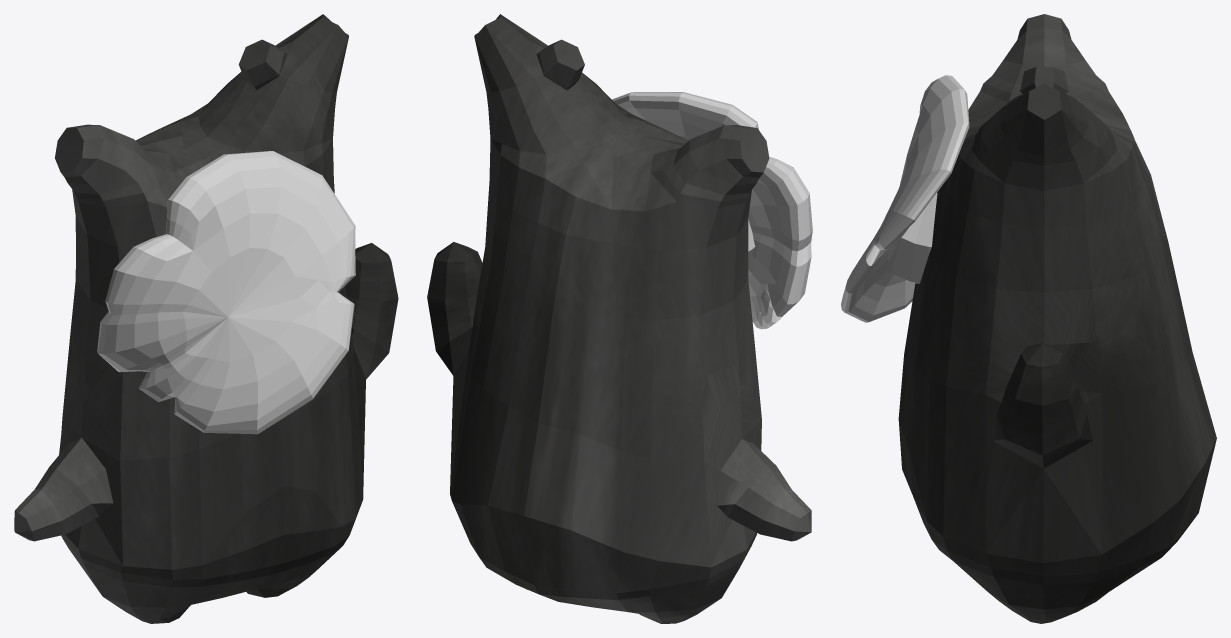
Rendered from frame_0038.obj.
The picture shows the model from 3 angles, left to right: view 1: azimuth 30°, elevation 25°; view 2: azimuth 150°, elevation 25°; view 3: azimuth 270°, elevation 25°; orthographic projection.
Parts seen in each view (by area): view 1: korok, leaf; view 2: korok, leaf; view 3: korok, leaf, nose.
Part boxes in pixels (<box>): korok: <box>14,14,398,623</box>; leaf: <box>97,151,355,434</box>; korok: <box>427,14,811,623</box>; leaf: <box>612,92,812,329</box>; korok: <box>898,14,1216,623</box>; leaf: <box>841,75,969,322</box>; nose: <box>884,193,937,283</box>.
Bounding box in the file's own units: 1.61 × 2.28 × 1.38.
